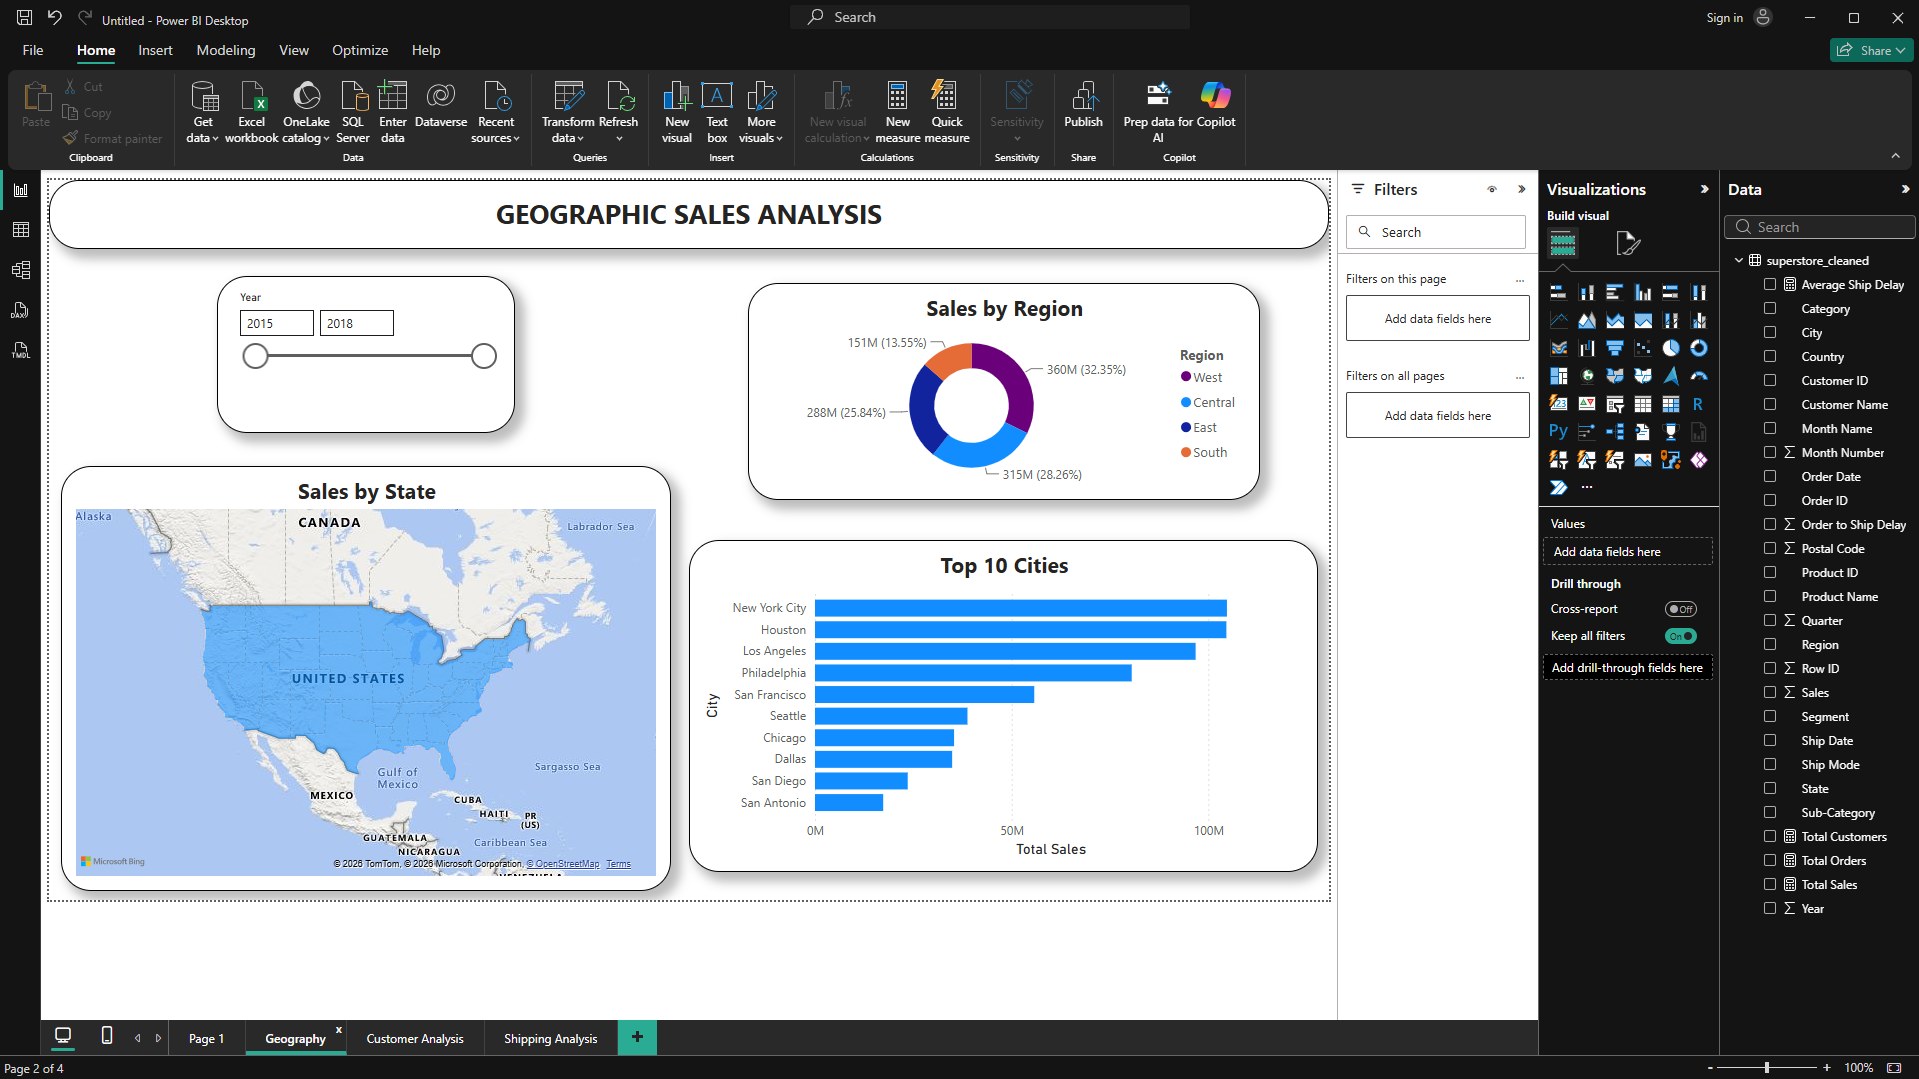

The dashboard page shown, as its layout file describes it:
{"tool":"powerbi","page":{"name":"Geography","canvas":[1280,720],"ordinal":1},"visuals":[{"type":"textbox","box":[0,0,1280,69],"z":0},{"type":"slicer","fields":{"Values":["superstore_cleaned.Year"]},"box":[168,96,298,157],"z":1},{"type":"filledMap","title":"Sales by State","fields":{"Category":["superstore_cleaned.State"]},"box":[12,286,610,425],"z":2},{"type":"clusteredBarChart","title":"Top 10 Cities","fields":{"Category":["superstore_cleaned.City"],"Y":["superstore_cleaned.Total Sales"]},"box":[640,360,629,332],"z":3},{"type":"donutChart","title":"Sales by Region","fields":{"Category":["superstore_cleaned.Region"],"Y":["superstore_cleaned.Total Sales"]},"box":[699,103,512,217],"z":4}]}

Visuals, with their boxes on the page's 1280x720 design canvas (x1, y1, x2, y2). These are canvas units, not pixel positions in the 1919x1079 screenshot, which may show the page scaled, cropped or inside an application window:
textbox: bbox=[0, 0, 1280, 69]
slicer - superstore_cleaned.Year: bbox=[168, 96, 466, 253]
"Sales by State" filledMap: bbox=[12, 286, 622, 711]
"Top 10 Cities" clusteredBarChart: bbox=[640, 360, 1269, 692]
"Sales by Region" donutChart: bbox=[699, 103, 1211, 320]
